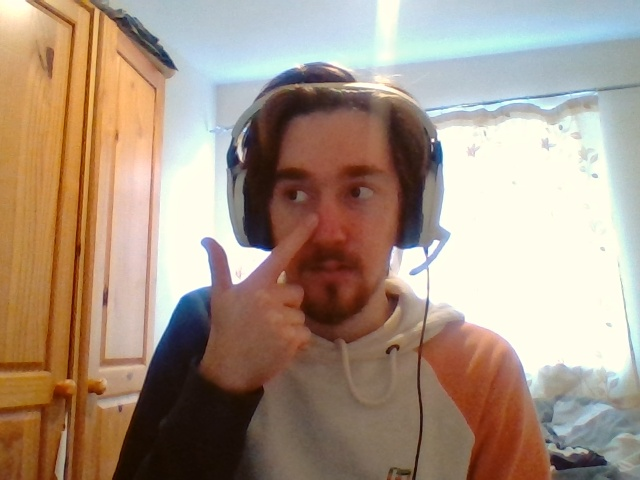luck: (200, 212, 318, 360)
